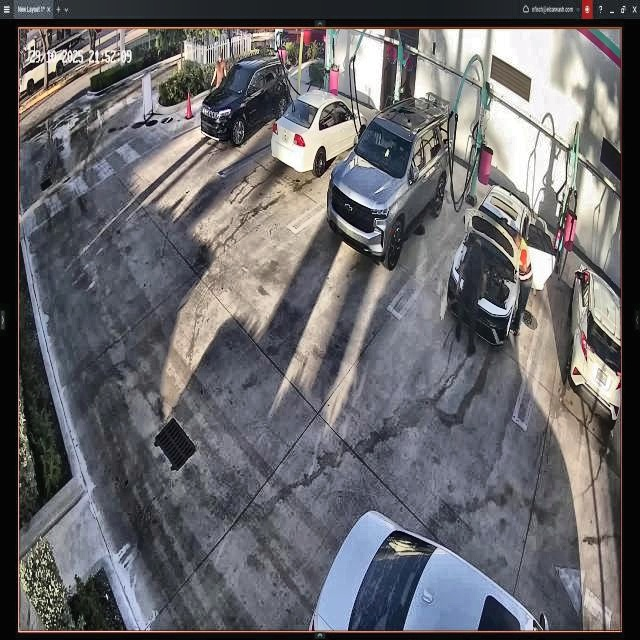Car: (332, 97, 453, 264), (450, 184, 550, 344), (274, 89, 366, 173), (200, 59, 289, 143)
